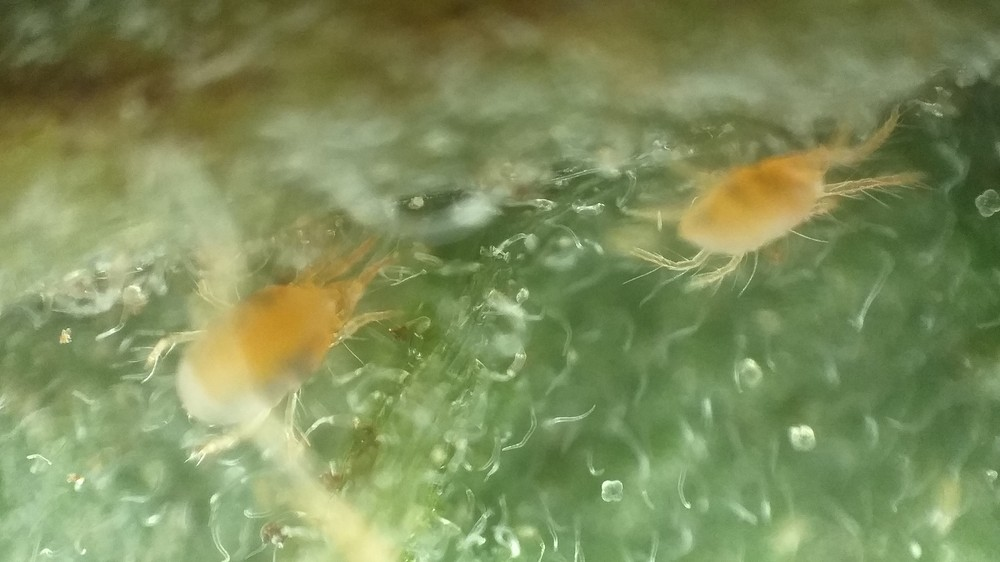Aracnido Rojo: (142, 226, 411, 474), (624, 107, 938, 293)
